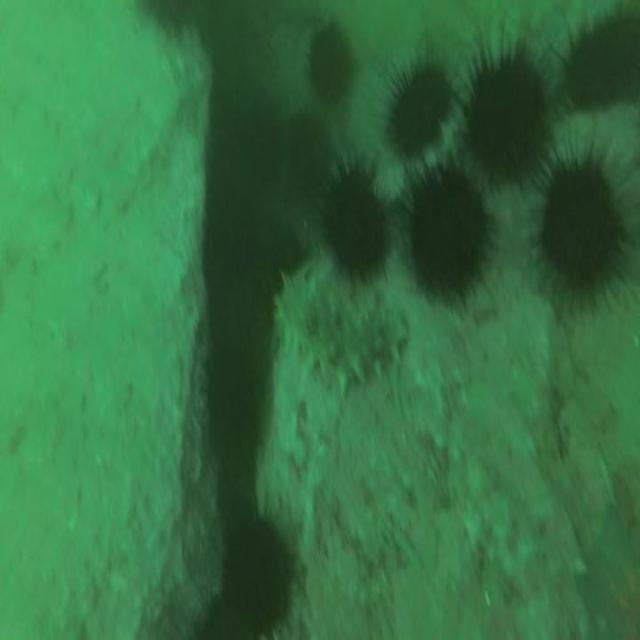echinus: (409, 172, 488, 294), (544, 161, 616, 283), (472, 62, 544, 177), (568, 18, 640, 110), (225, 524, 292, 622), (323, 174, 389, 270), (391, 68, 450, 153), (211, 357, 261, 457), (284, 112, 330, 188), (308, 25, 350, 98)
holothurian: (274, 272, 408, 392)
starfish: (582, 505, 640, 640)
